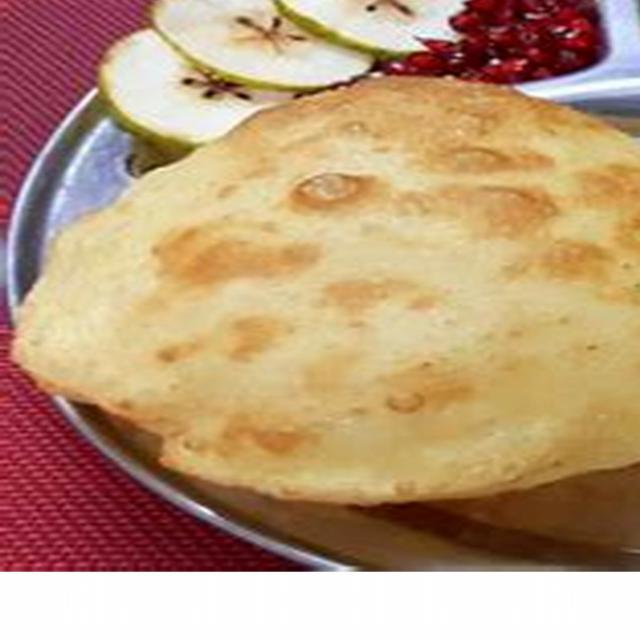Bhatura: (13, 79, 640, 502)
